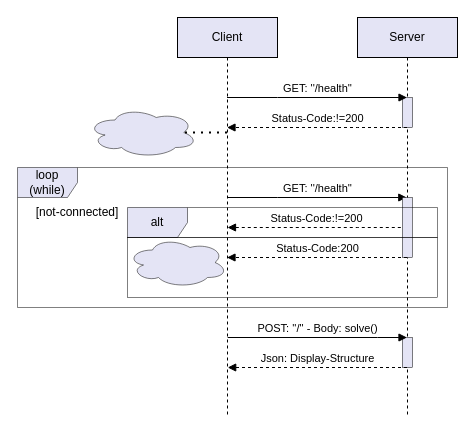
This 475x435 diagram has some shape labels left out. Each missing label, with the centre of its shape:
"not-connected= False" belongs at (x=177, y=262).
"not-connected=True" belongs at (x=142, y=132).
